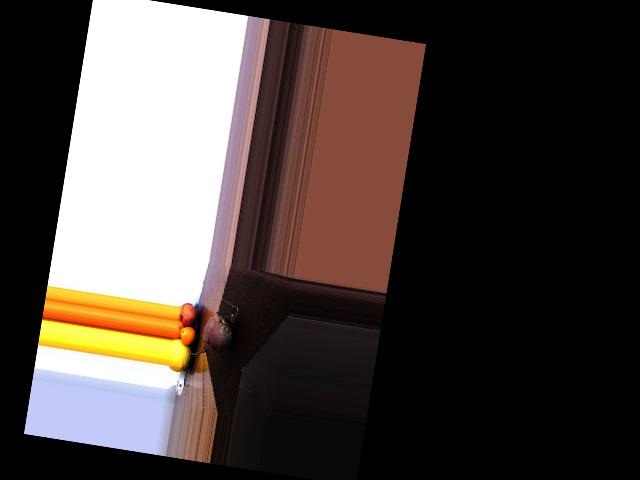beet: (186, 295, 239, 361)
